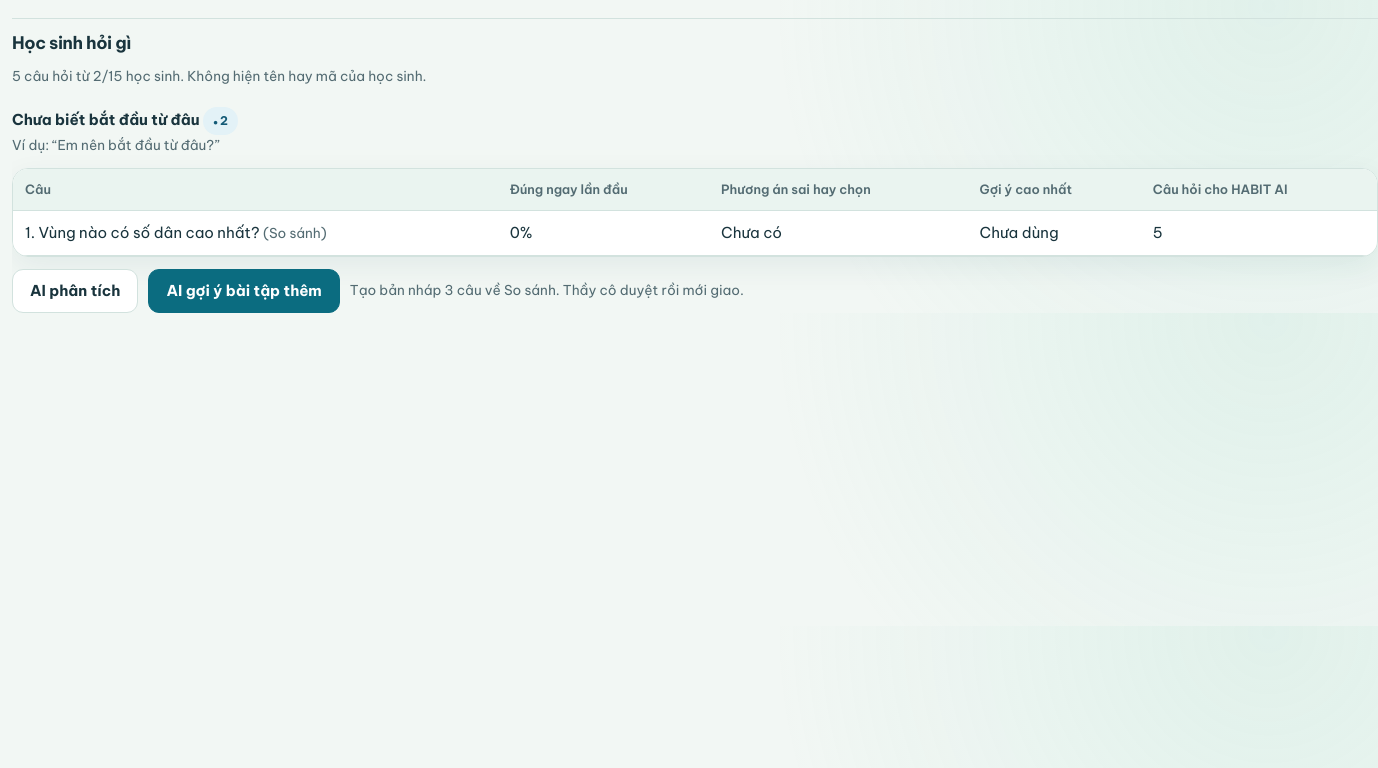
Test: Insights › the analysis button labels who wrote the summary
This screenshot has width=1378, height=768.
What coordinates should you click on to do the following:
click the button "AI phân tích"
I would click on:
 (75, 291)
Its box is [12,269,138,313].
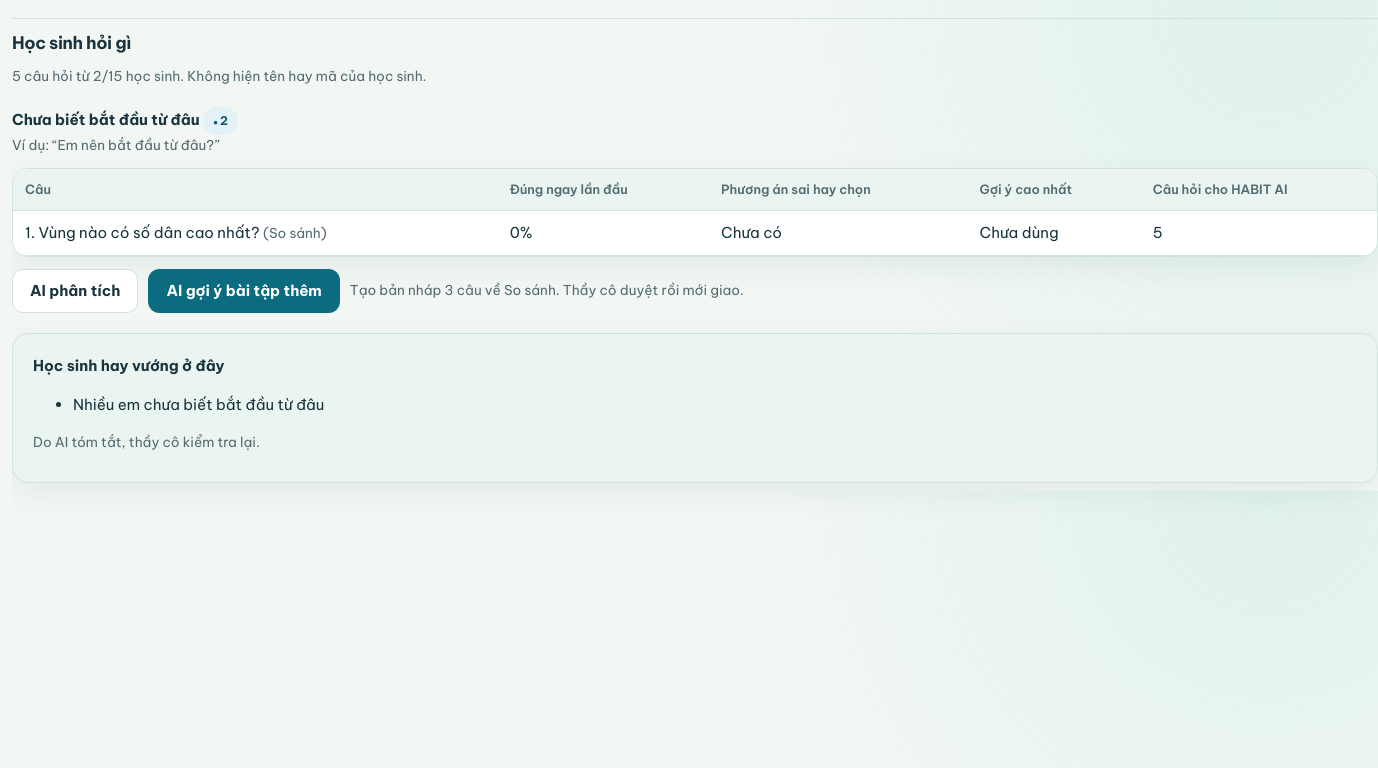
Expected: the list item "Nhiều em chưa biết bắt đầu từ đâu" is shown, [73,395,324,414]
Expected: the text "Do AI tóm tắt, thầy cô kiểm tra lại." is shown, [33,433,260,451]
